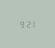nine: (18, 20, 23, 28)
one: (31, 19, 36, 27)
two: (25, 20, 30, 27)
